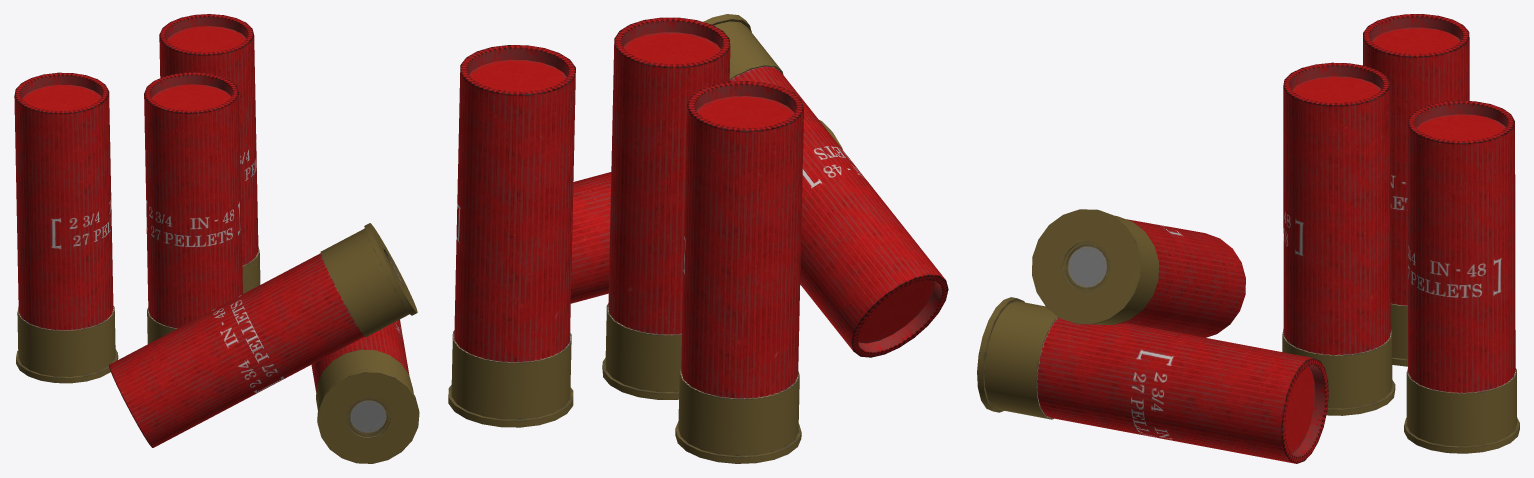
Rendered from cartuchos.gltf.
3 renders of one model, left to right at view 1: azimuth 30°, elevation 25°; view 2: azimuth 150°, elevation 25°; view 3: azimuth 270°, elevation 25°, orthographic. The views are drawn at different scales.
Parts seen in each view (by area): view 1: cartuchos; view 2: cartuchos; view 3: cartuchos.
Part boxes in pixels (bbox=[...]): cartuchos: bbox=[14, 14, 419, 463]; cartuchos: bbox=[448, 14, 948, 463]; cartuchos: bbox=[977, 14, 1519, 463].
Bounding box in the file's own units: 0.0934 × 0.0768 × 0.12.
Materials: 1 (1 with a texture image).
